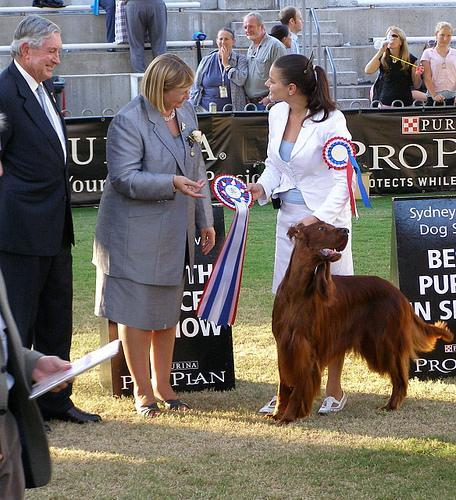Irish_setter: (271, 214, 454, 425)
